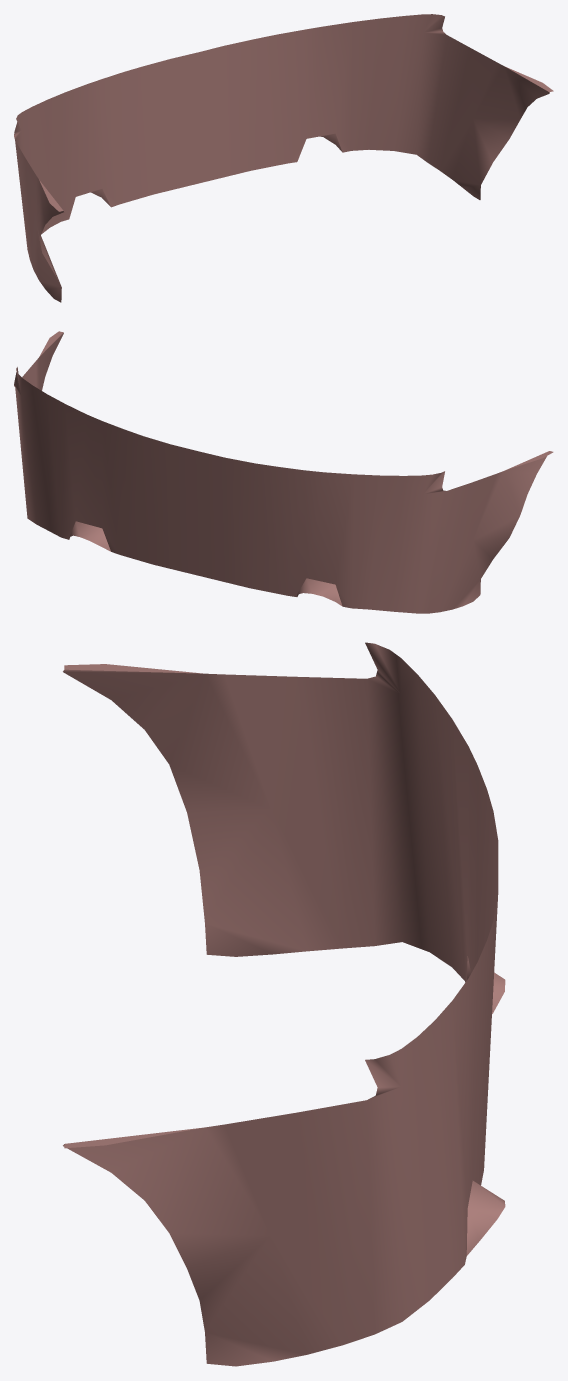
The model's file is G37_RB_01_Trim.fbx.
3 views of the same model, one above another, from view 1: azimuth 30°, elevation 25°; view 2: azimuth 150°, elevation 25°; view 3: azimuth 270°, elevation 25° (orthographic). The views are drawn at different scales.
Visible parts, largest first — view 1: G37_RB_01_Trim; view 2: G37_RB_01_Trim; view 3: G37_RB_01_Trim.
Part boxes in pixels (box(x1,y1,x2,y2)): G37_RB_01_Trim: box(14, 14, 553, 302); G37_RB_01_Trim: box(14, 331, 553, 613); G37_RB_01_Trim: box(63, 642, 505, 1366).
Bounding box in the file's own units: 181 × 54.35 × 70.24.
